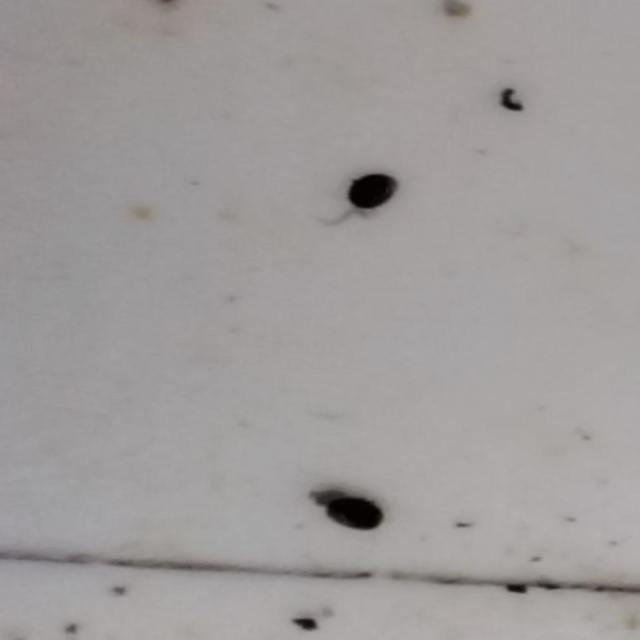varroa: (345, 171, 403, 214), (324, 494, 385, 534)
